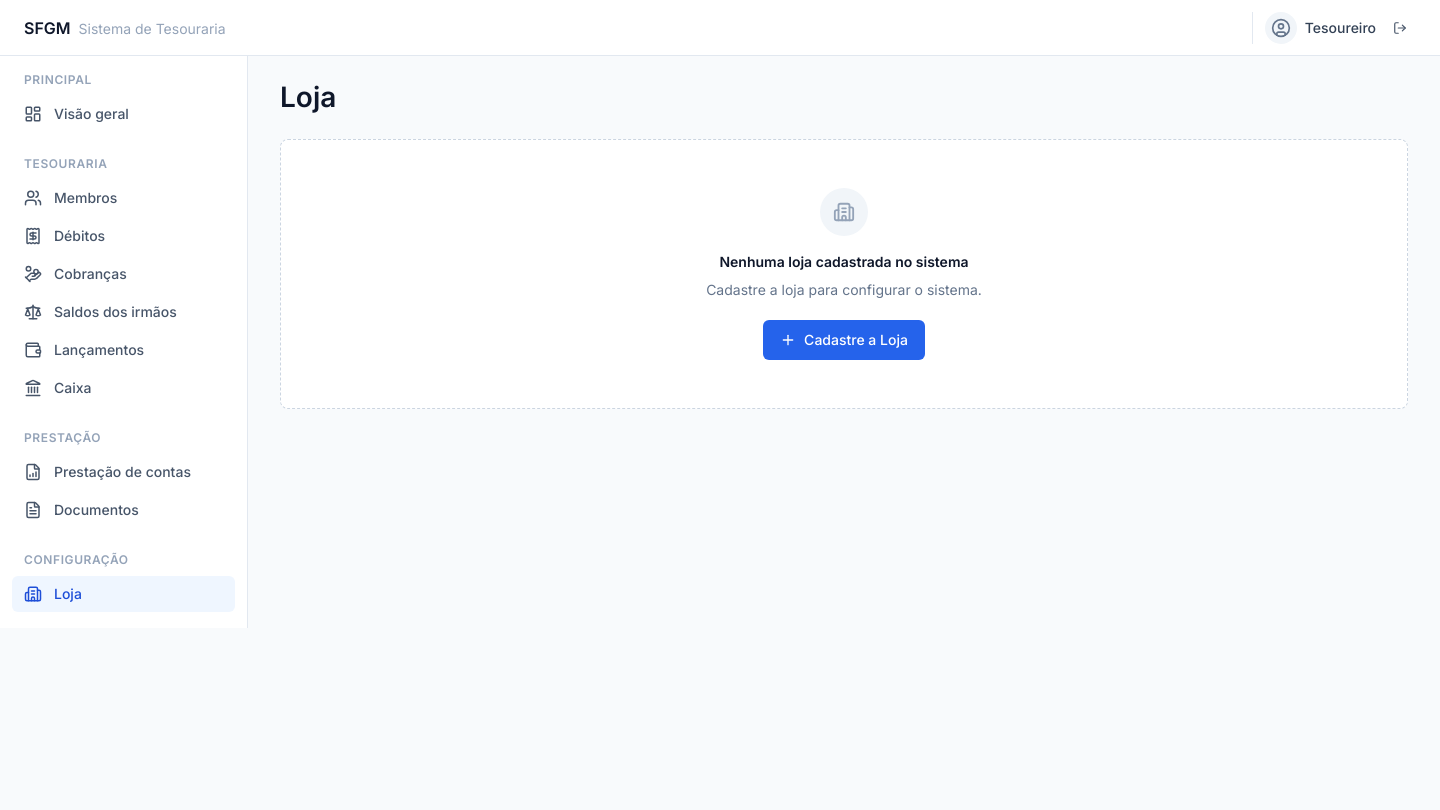
Test: Cadastro da Loja (CriarLojaModal) › fecha pelo Cancelar sem cadastrar
Click the button "Cadastre a Loja".
click(844, 340)  # box [763, 320, 925, 360]
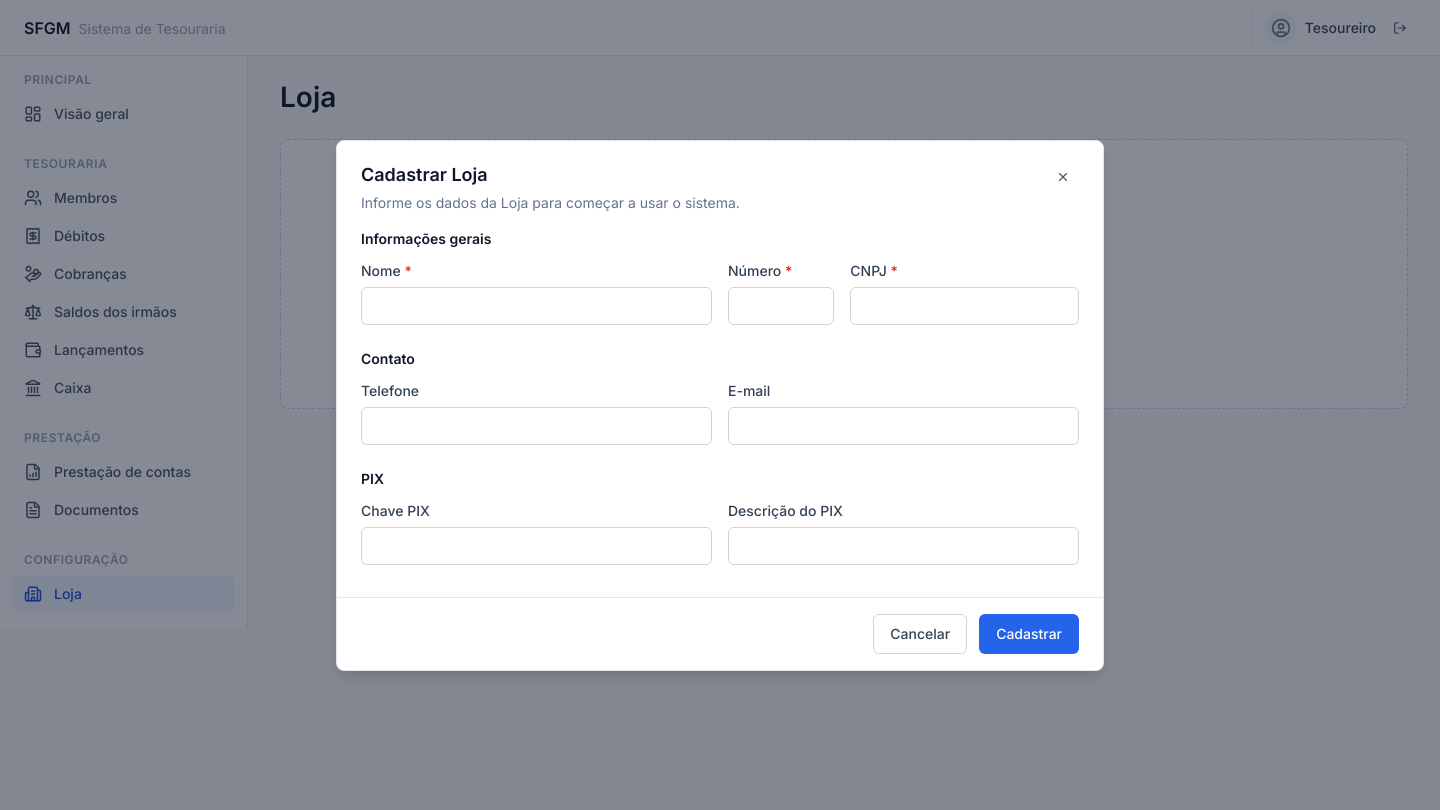
Click the button "Cancelar".
click(920, 634)  # box [873, 614, 967, 654]
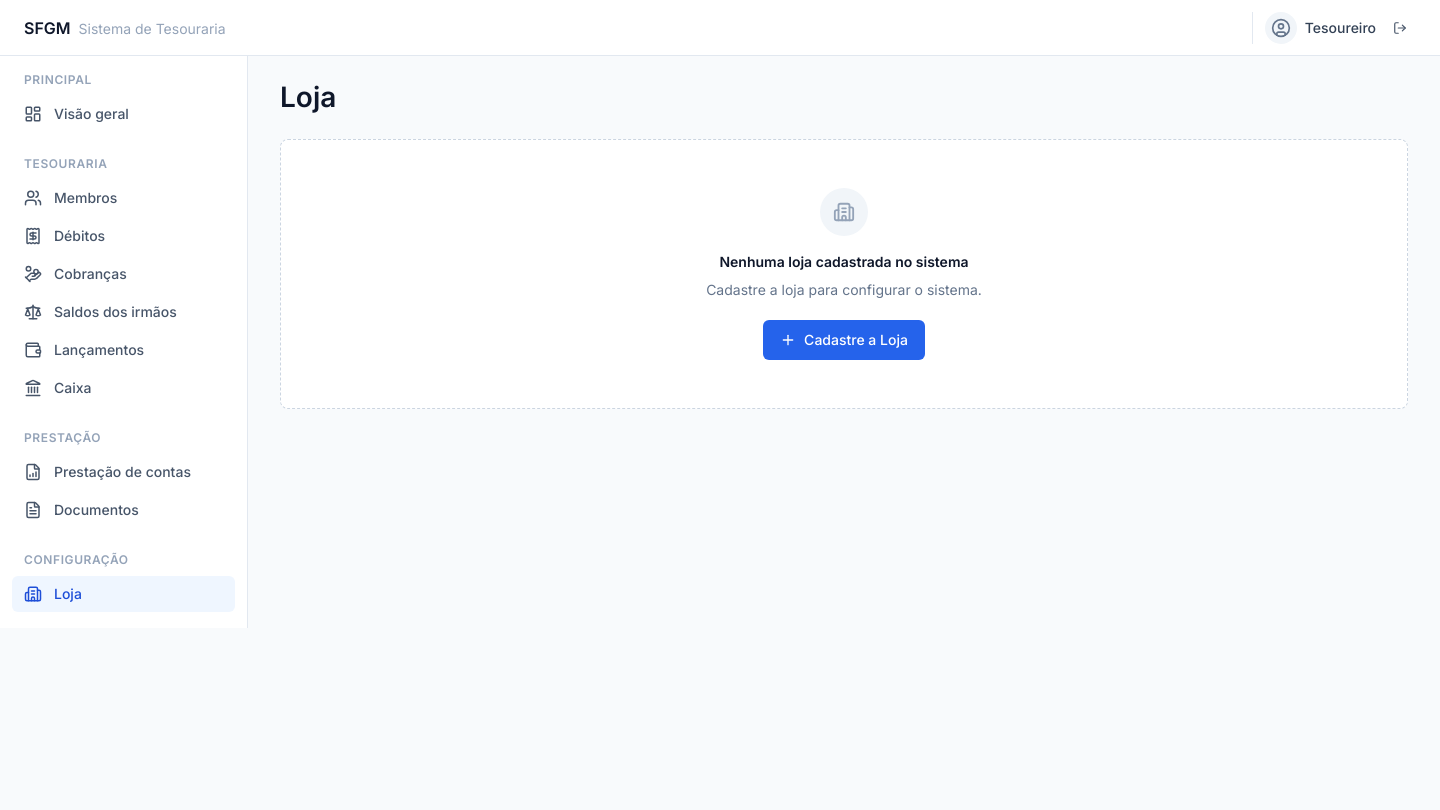
Check: the button "Cadastre a Loja" is shown, box [763, 320, 925, 360]
Check: the dialog is gone
